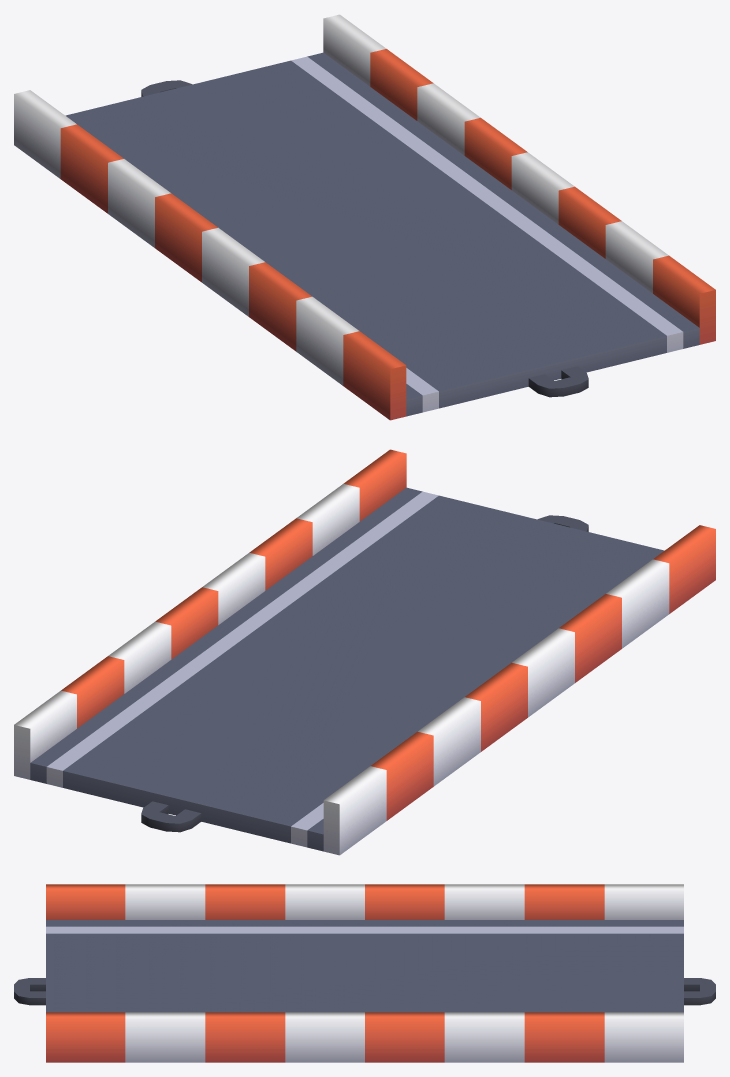
Rendered from track-road-wide-straight.glb.
3 renders of one model, top to bottom at view 1: azimuth 30°, elevation 25°; view 2: azimuth 150°, elevation 25°; view 3: azimuth 270°, elevation 25°, orthographic. The views are drawn at different scales.
Visible parts, largest first — view 1: track-road-wide-straight; view 2: track-road-wide-straight; view 3: track-road-wide-straight.
Part boxes in pixels (x1,y1,x2,y2): track-road-wide-straight: [14, 14, 715, 420]; track-road-wide-straight: [14, 449, 715, 855]; track-road-wide-straight: [14, 884, 715, 1062].
Bounding box in the file's own units: 2 × 0.3 × 4.4.
Materials: 1 (1 with a texture image).
